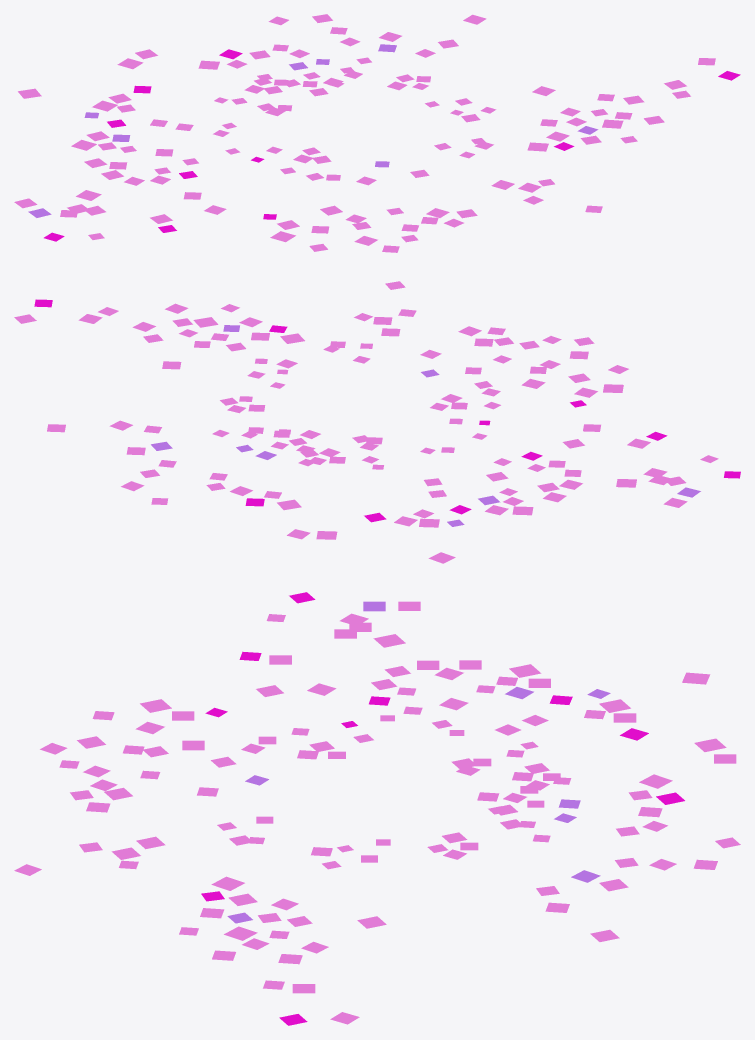
The model's file is Park_Grass.fbx.
3 views of the same model, one above another, from view 1: azimuth 30°, elevation 25°; view 2: azimuth 150°, elevation 25°; view 3: azimuth 270°, elevation 25° (orthographic). The views are drawn at different scales.
Parts seen in each view (by area): view 1: Park_Grass; view 2: Park_Grass; view 3: Park_Grass.
Boxes of the visible parts, box(x1,y1,x2,y2) form: Park_Grass: box(14, 14, 740, 252); Park_Grass: box(14, 281, 740, 563); Park_Grass: box(14, 592, 740, 1025).
Bounding box in the file's own units: 83.66 × 1.13 × 59.25.
